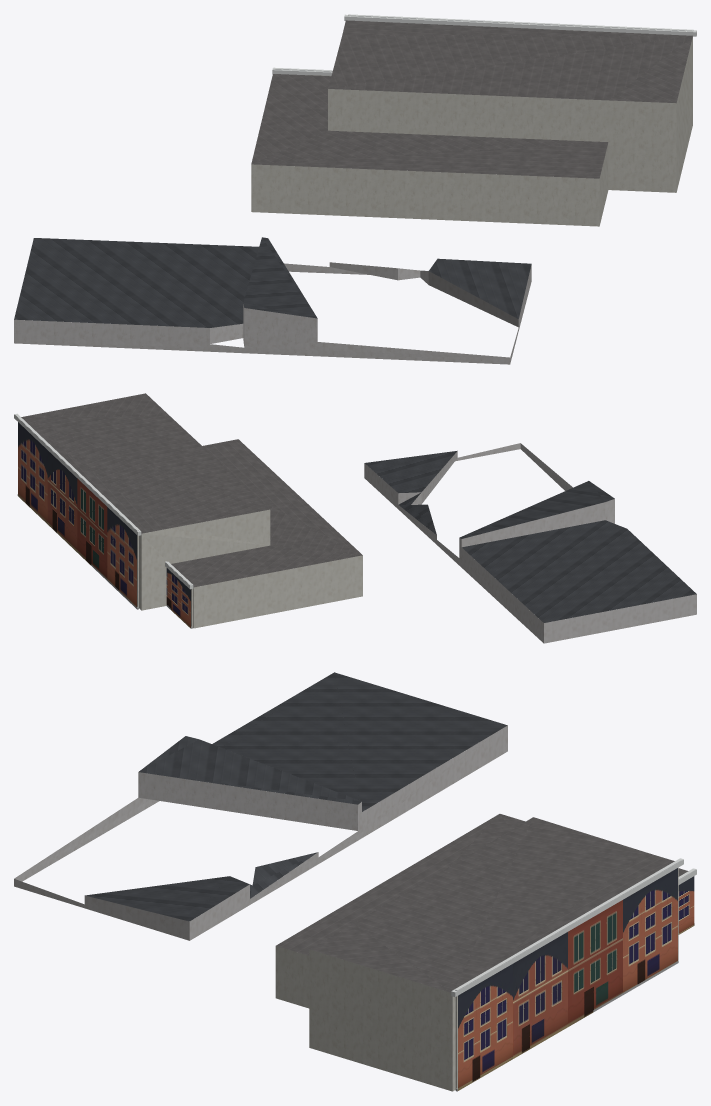
The picture shows the model from 3 angles, top to bottom: view 1: azimuth 30°, elevation 25°; view 2: azimuth 150°, elevation 25°; view 3: azimuth 270°, elevation 25°; orthographic projection. The views are drawn at different scales.
Parts seen in each view (by area): view 1: bldg_6004581033_roof, bldg_6004581033, bldg_6006778235_roof, bldg_6006778235, bldg_6004581033_facade1; view 2: bldg_6004581033_roof, bldg_6006778235_roof, bldg_6004581033, bldg_6004581033_facade1, bldg_6006778235, bldg_6004581033_facade0; view 3: bldg_6004581033_roof, bldg_6006778235_roof, bldg_6004581033_facade1, bldg_6004581033, bldg_6006778235, bldg_6004581033_facade0.
Part boxes in pixels (left/top/right/bottom): bldg_6004581033_roof: left=251, top=20, right=692, bottom=178; bldg_6004581033: left=251, top=31, right=692, bottom=226; bldg_6006778235_roof: left=14, top=237, right=531, bottom=327; bldg_6006778235: left=14, top=262, right=531, bottom=364; bldg_6004581033_facade1: left=344, top=14, right=696, bottom=36; bldg_6004581033_roof: left=21, top=393, right=362, bottom=587; bldg_6006778235_roof: left=365, top=451, right=696, bottom=622; bldg_6004581033: left=139, top=509, right=362, bottom=628; bldg_6004581033_facade1: left=14, top=413, right=141, bottom=609; bldg_6006778235: left=364, top=443, right=696, bottom=643; bldg_6004581033_facade0: left=165, top=561, right=193, bottom=628; bldg_6004581033_roof: left=276, top=814, right=688, bottom=992; bldg_6006778235_roof: left=85, top=672, right=507, bottom=921; bldg_6004581033_facade1: left=451, top=858, right=683, bottom=1091; bldg_6004581033: left=275, top=867, right=678, bottom=1091; bldg_6006778235: left=14, top=725, right=507, bottom=940; bldg_6004581033_facade0: left=678, top=868, right=696, bottom=934.
Bounding box in the file's own units: 66.64 × 8.05 × 48.59.
7 materials, 5 textured.
